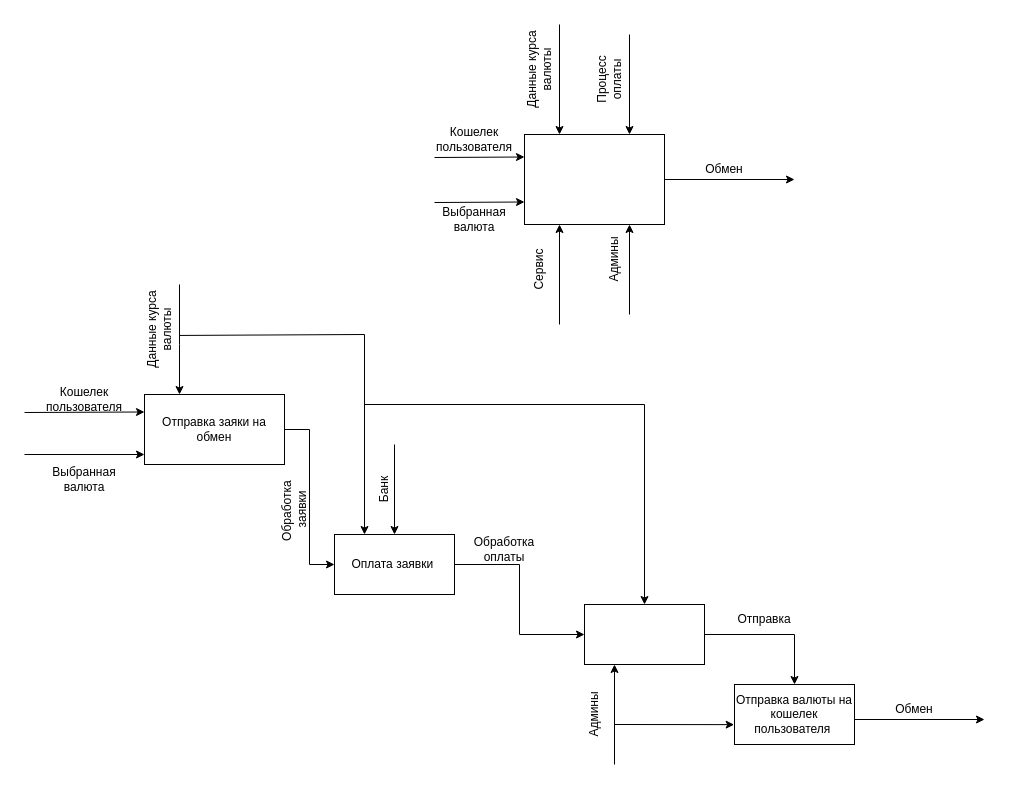
Some shapes in this 1010 by 790 pixel diagram are drawn without their labels. Here are the shapes that lost their labels. From the top down, the centre of each, then its label:
At point (594, 179): "обменник валют".
At point (644, 634): "Конвертация валюты".
